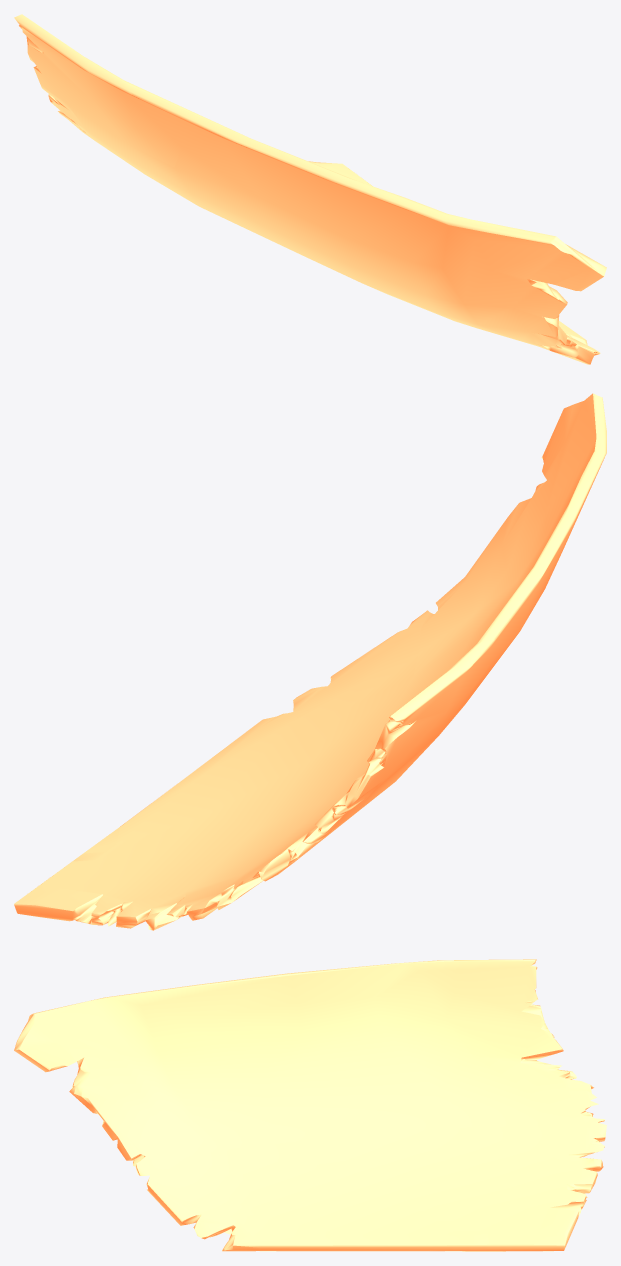
File: SM_HullBroken.fbx
The picture shows the model from 3 angles, top to bottom: view 1: azimuth 30°, elevation 25°; view 2: azimuth 150°, elevation 25°; view 3: azimuth 270°, elevation 25°; orthographic projection. The views are drawn at different scales.
Parts seen in each view (by area): view 1: SM_HullBroken_LOD0; view 2: SM_HullBroken_LOD0; view 3: SM_HullBroken_LOD0.
Boxes of the visible parts, left/top/right/bottom form: SM_HullBroken_LOD0: left=14, top=14, right=606, bottom=364; SM_HullBroken_LOD0: left=14, top=393, right=606, bottom=930; SM_HullBroken_LOD0: left=14, top=959, right=606, bottom=1251.
Size of the model in its own units: 601 by 1278 by 430.
